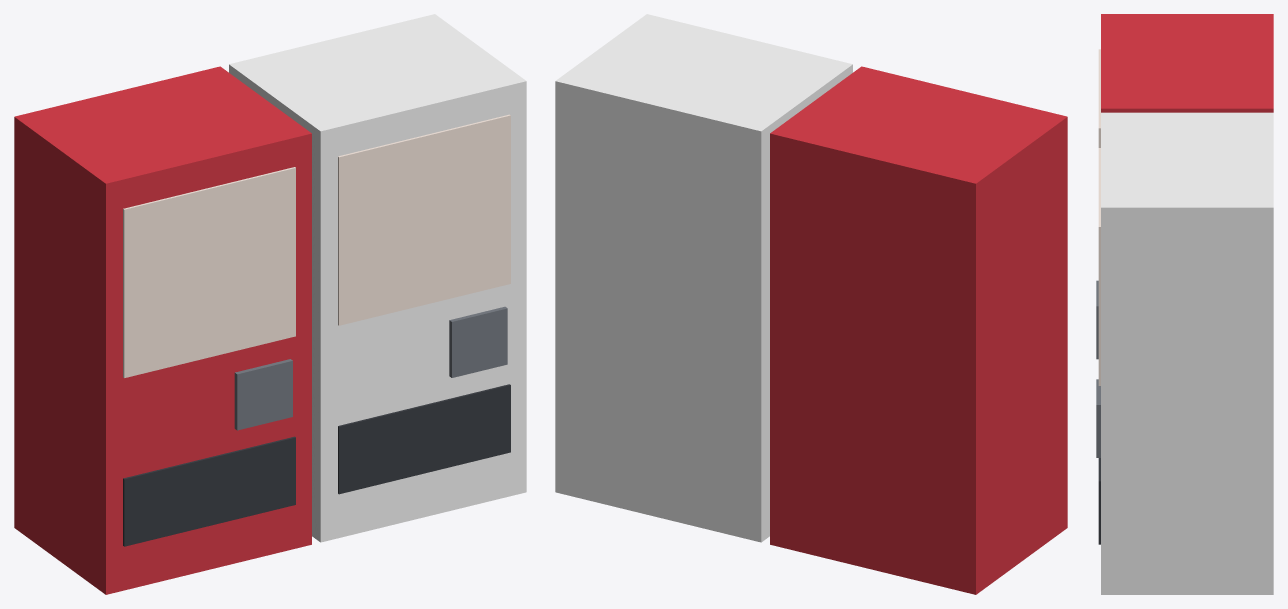
File: site_clutter3.fbx
The picture shows the model from 3 angles, left to right: view 1: azimuth 30°, elevation 25°; view 2: azimuth 150°, elevation 25°; view 3: azimuth 270°, elevation 25°; orthographic projection. The views are drawn at different scales.
Visible parts, largest first — view 1: a1019/0/site_clutter3; view 2: a1019/0/site_clutter3; view 3: a1019/0/site_clutter3.
Part boxes in pixels (x1=…): a1019/0/site_clutter3: x1=14, y1=14, x2=526, y2=594; a1019/0/site_clutter3: x1=555, y1=14, x2=1067, y2=594; a1019/0/site_clutter3: x1=1096, y1=14, x2=1273, y2=594.
Size of the model in its own units: 1.96 by 1.83 by 0.76.
